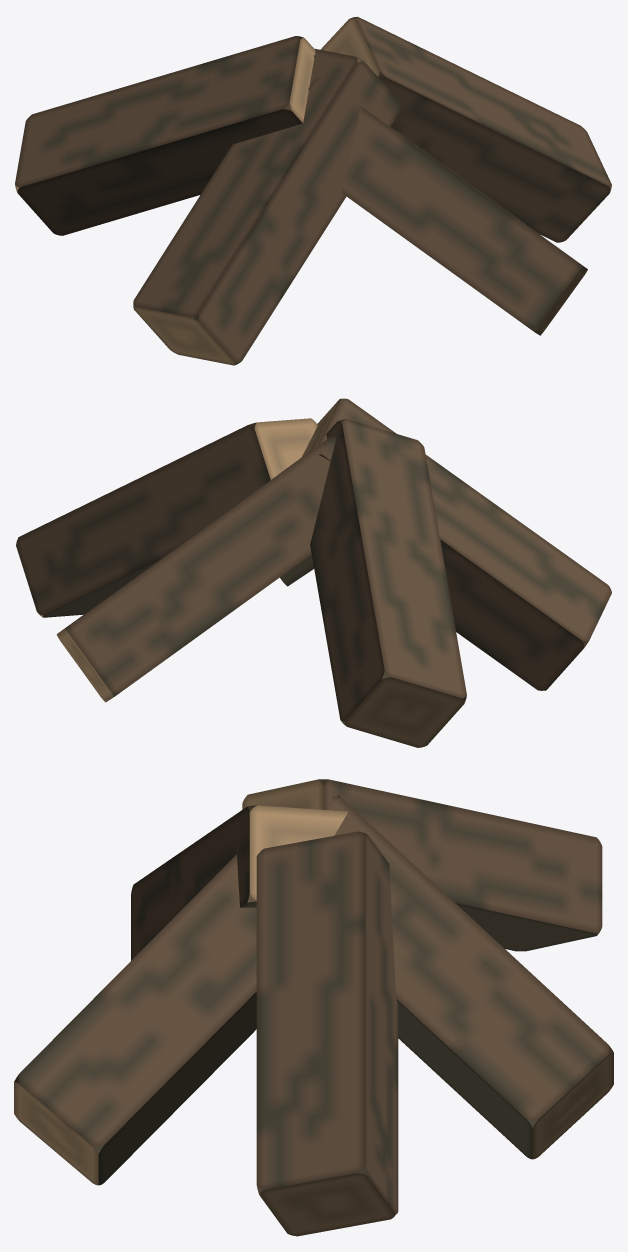
Rendered from Campfire.fbx.
3 views of the same model, one above another, from view 1: azimuth 30°, elevation 25°; view 2: azimuth 150°, elevation 25°; view 3: azimuth 270°, elevation 25° (orthographic). The views are drawn at different scales.
Parts seen in each view (by area): view 1: cuboid_4, cuboid, cuboid_1, cuboid_2; view 2: cuboid, cuboid_3, cuboid_1, cuboid_4; view 3: cuboid_1, cuboid_2, cuboid_3, cuboid, cuboid_4.
Part boxes in pixels (x1,y1,x2,y2): cuboid_4: [133, 48, 400, 365]; cuboid: [15, 36, 315, 235]; cuboid_1: [320, 16, 611, 242]; cuboid_2: [308, 77, 587, 335]; cuboid: [310, 419, 466, 747]; cuboid_3: [56, 436, 336, 702]; cuboid_1: [16, 418, 317, 617]; cuboid_4: [302, 398, 611, 690]; cuboid_1: [256, 831, 398, 1236]; cuboid_2: [14, 854, 256, 1185]; cuboid_3: [330, 795, 613, 1159]; cuboid: [242, 779, 602, 951]; cuboid_4: [131, 805, 348, 960].
Size of the model in its own units: 268 by 136 by 228.
Materials: 1 (1 with a texture image).
